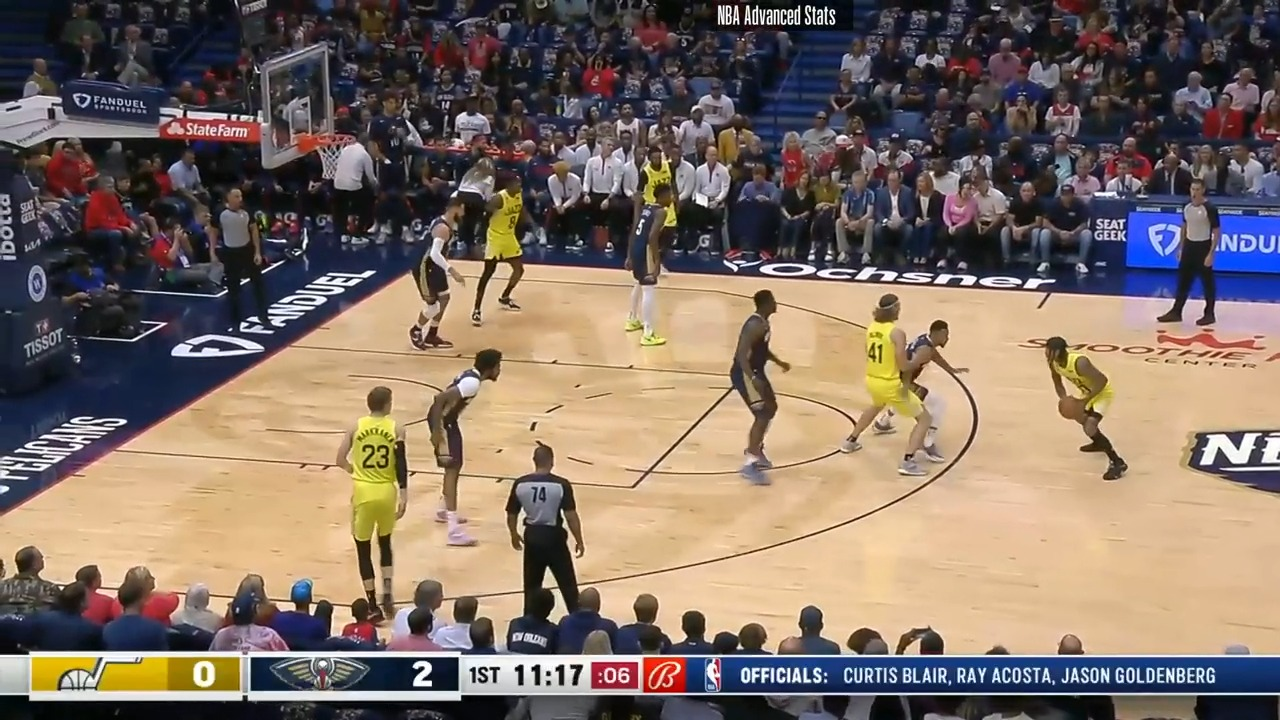net: (292, 127, 352, 183)
player: (339, 381, 418, 606), (422, 347, 506, 544), (726, 289, 797, 489), (1045, 337, 1132, 484), (898, 319, 974, 482), (842, 295, 913, 461), (467, 172, 533, 321), (631, 182, 684, 346), (412, 196, 468, 350), (630, 144, 677, 283)
referee: (507, 446, 590, 621), (216, 187, 279, 340), (1160, 179, 1221, 335)
